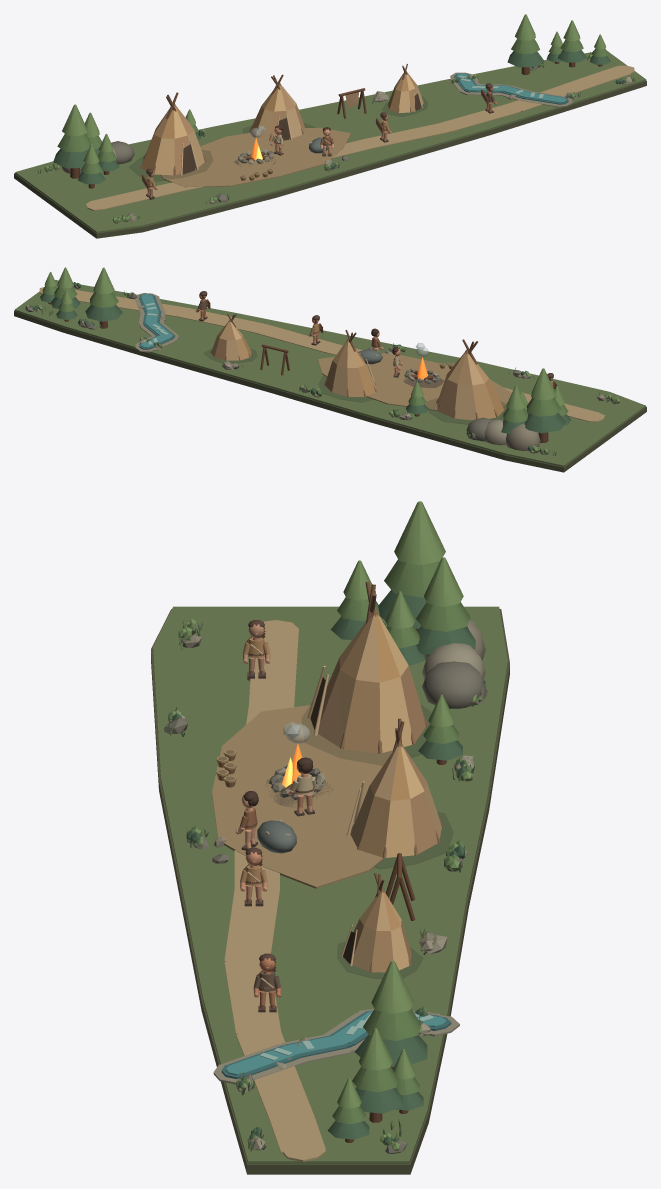
Rendered from stone.glb.
3 renders of one model, top to bottom at view 1: azimuth 30°, elevation 25°; view 2: azimuth 150°, elevation 25°; view 3: azimuth 270°, elevation 25°, orthographic. The views are drawn at different scales.
Visible parts, largest first — view 1: TerrainAndBuildings; view 2: TerrainAndBuildings; view 3: TerrainAndBuildings.
Part boxes in pixels (x1,y1,x2,y2): TerrainAndBuildings: [14, 14, 646, 238]; TerrainAndBuildings: [14, 267, 646, 472]; TerrainAndBuildings: [151, 501, 509, 1174].
Bounding box in the file's own units: 1.73 × 0.2437 × 0.4717.
